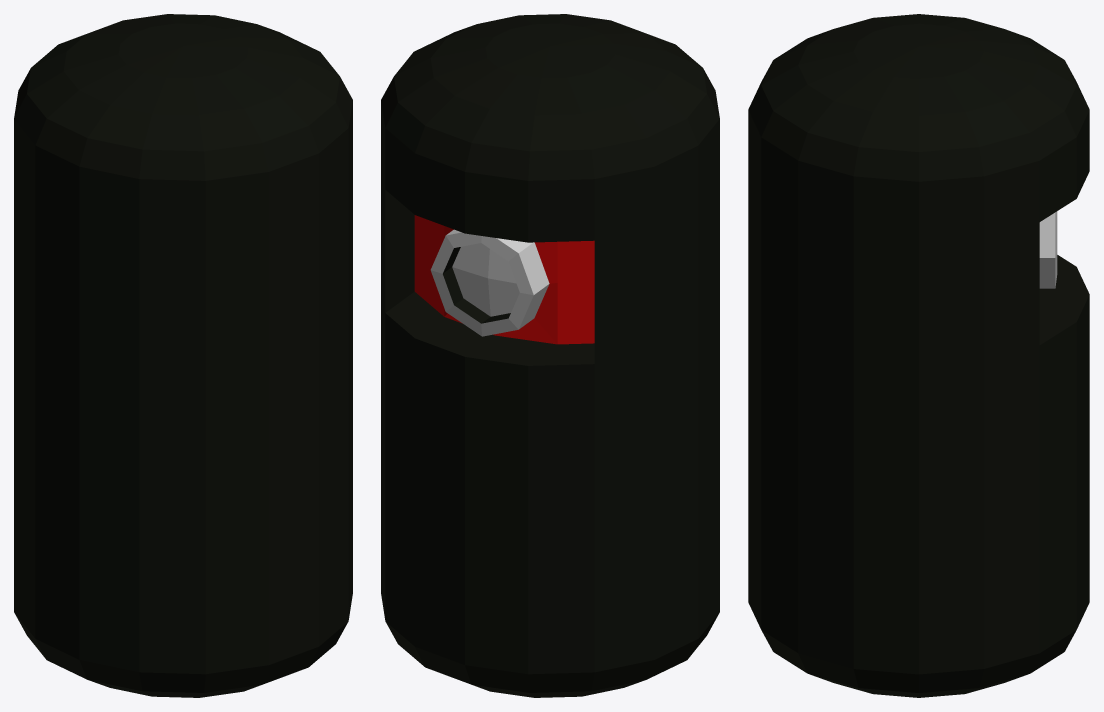
File: walk3.obj
3 renders of one model, left to right at view 1: azimuth 30°, elevation 25°; view 2: azimuth 150°, elevation 25°; view 3: azimuth 270°, elevation 25°, orthographic.
Visible parts, largest first — view 1: Sphere; view 2: Sphere; view 3: Sphere.
Boxes of the visible parts, x1=… form: Sphere: x1=14, y1=14, x2=352, y2=697; Sphere: x1=381, y1=14, x2=719, y2=697; Sphere: x1=748, y1=14, x2=1089, y2=697.
Size of the model in its own units: 1 by 2 by 1.
